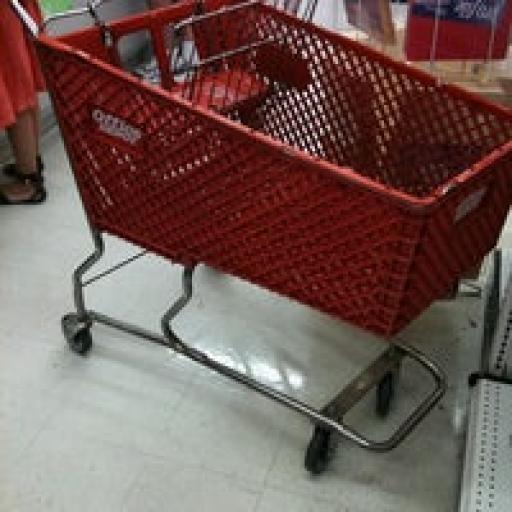shopping_cart: (9, 0, 512, 473)
